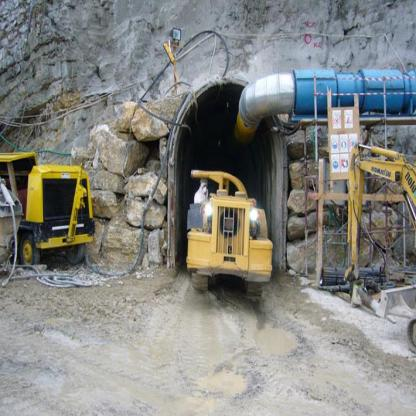bull_dozer/loader/grader: (178, 137, 290, 313)
person: (187, 176, 217, 213)
